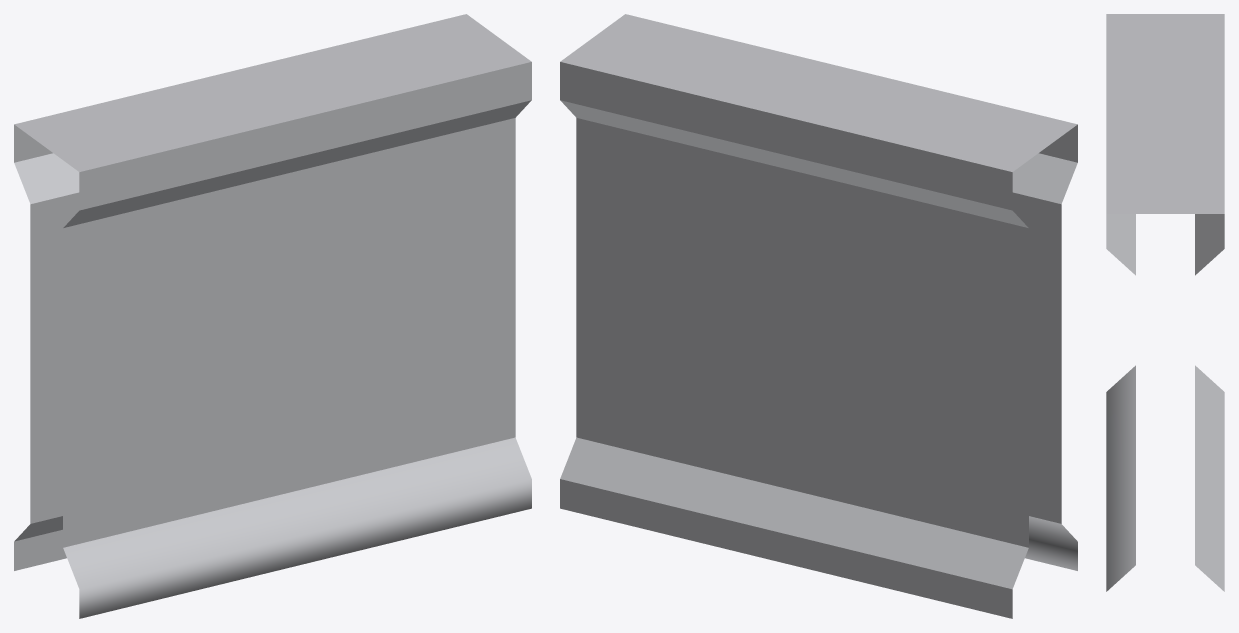
Rendered from LP_CastleWall.fbx.
The picture shows the model from 3 angles, left to right: view 1: azimuth 30°, elevation 25°; view 2: azimuth 150°, elevation 25°; view 3: azimuth 270°, elevation 25°; orthographic projection. The views are drawn at different scales.
Visible parts, largest first — view 1: Lp_Castlewall; view 2: Lp_Castlewall; view 3: Lp_Castlewall.
Part boxes in pixels (x1,y1,x2,y2): Lp_Castlewall: (14,14,531,618); Lp_Castlewall: (560,14,1077,618); Lp_Castlewall: (1106,14,1224,591).
Size of the model in its own units: 1.47 by 1.39 by 0.3681.
Materials: 1 (1 with a texture image).
